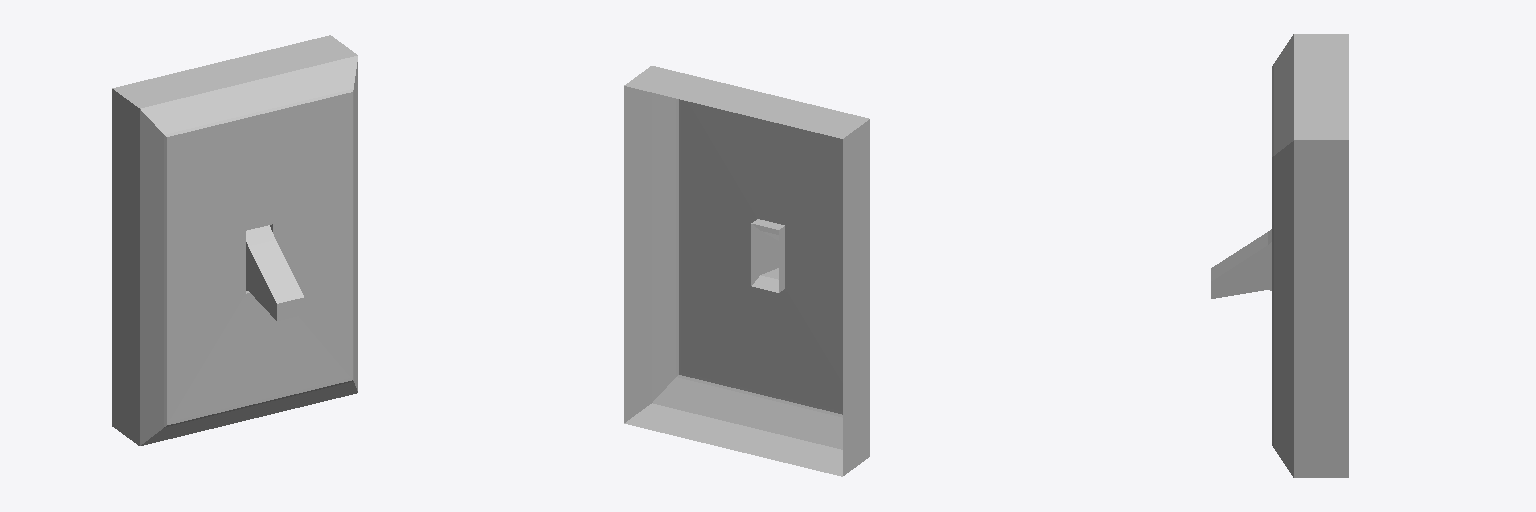
File: Interruptor.obj
3 renders of one model, left to right at view 1: azimuth 30°, elevation 25°; view 2: azimuth 150°, elevation 25°; view 3: azimuth 270°, elevation 25°, orthographic.
Parts seen in each view (by area): view 1: Interrupitor; view 2: Interrupitor; view 3: Interrupitor.
Part boxes in pixels (x1,y1,x2,y2): Interrupitor: (112, 35, 357, 445); Interrupitor: (624, 66, 869, 476); Interrupitor: (1211, 34, 1348, 477).
Bounding box in the file's own units: 0.2344 × 0.346 × 0.1287.